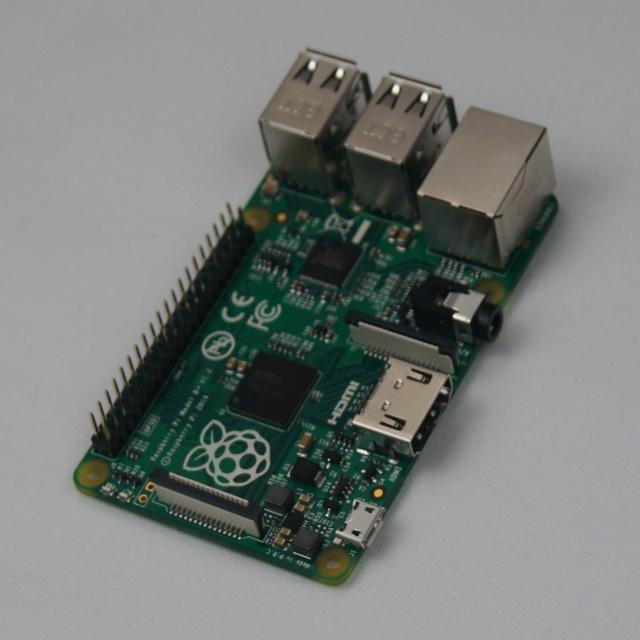Raspberry Pi 1 B-: (74, 50, 558, 585)
